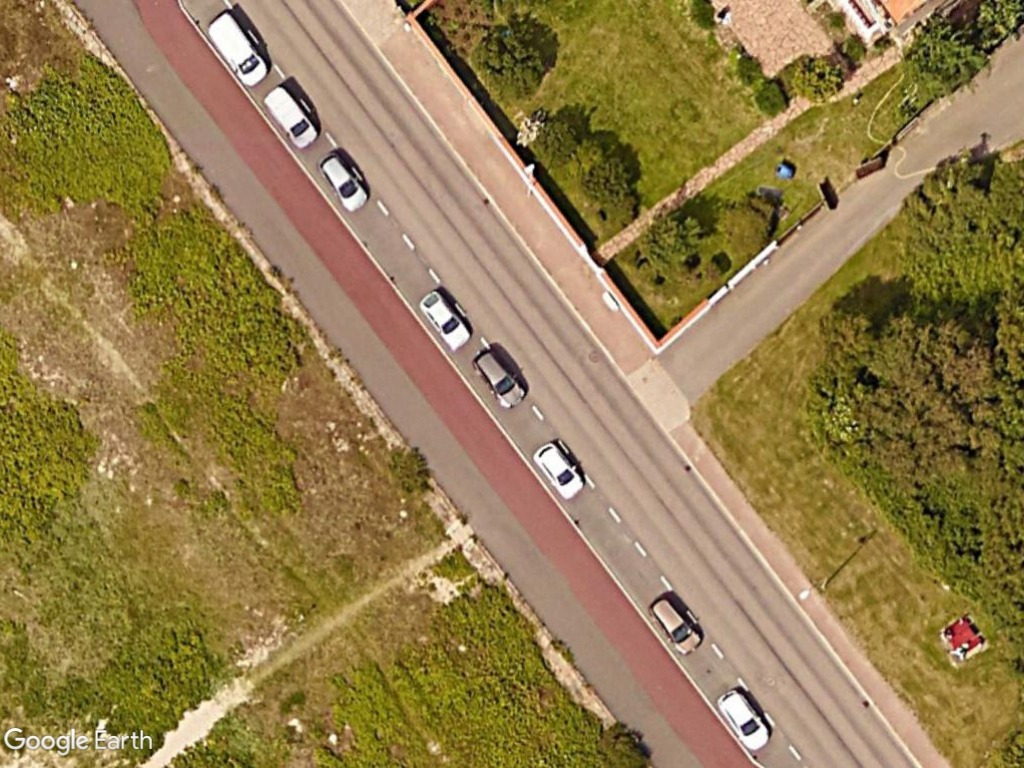car: (714, 684, 775, 759), (413, 285, 475, 353), (470, 344, 527, 415), (645, 595, 706, 657), (316, 150, 375, 214), (531, 438, 587, 504)
van: (204, 10, 272, 91), (265, 81, 317, 149)
